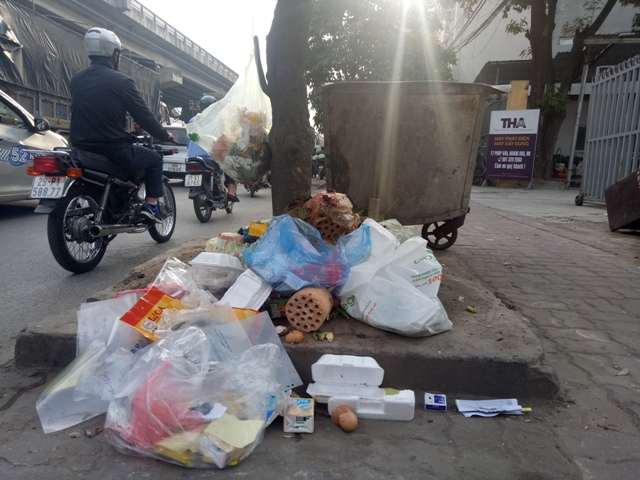kantong: (106, 329, 270, 471), (340, 216, 457, 336), (240, 213, 372, 295)
